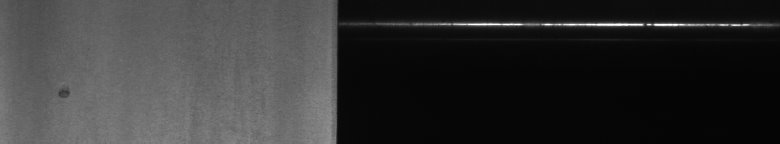fi: (53, 81, 73, 104)
